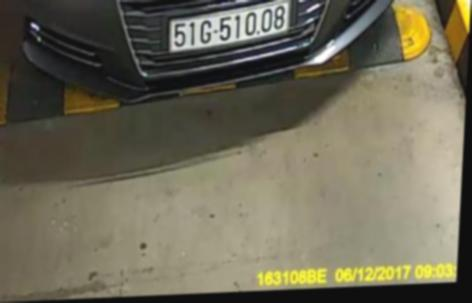License_Plate: (166, 0, 303, 55)
